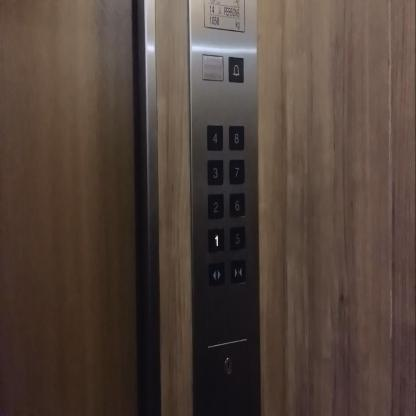1: (207, 226, 225, 251)
2: (207, 192, 224, 221)
3: (206, 157, 224, 186)
4: (206, 123, 224, 152)
5: (228, 225, 246, 252)
6: (229, 192, 246, 219)
7: (228, 157, 245, 186)
8: (228, 123, 245, 152)
alarm: (227, 54, 245, 84)
close: (229, 259, 246, 285)
keyhole: (222, 354, 233, 377)
open: (207, 261, 225, 287)
